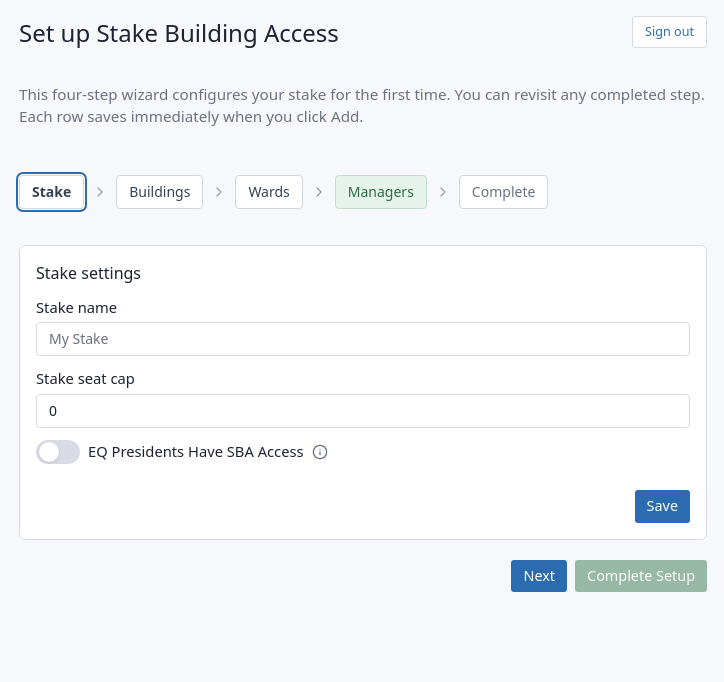
Test: <BootstrapWizardPage /> › tells the manager the " Ward" suffix is optional but a branch must end in " Branch"
Click the tab with test id "wizard-step-tab-3": (269,192) [235,175,303,209]
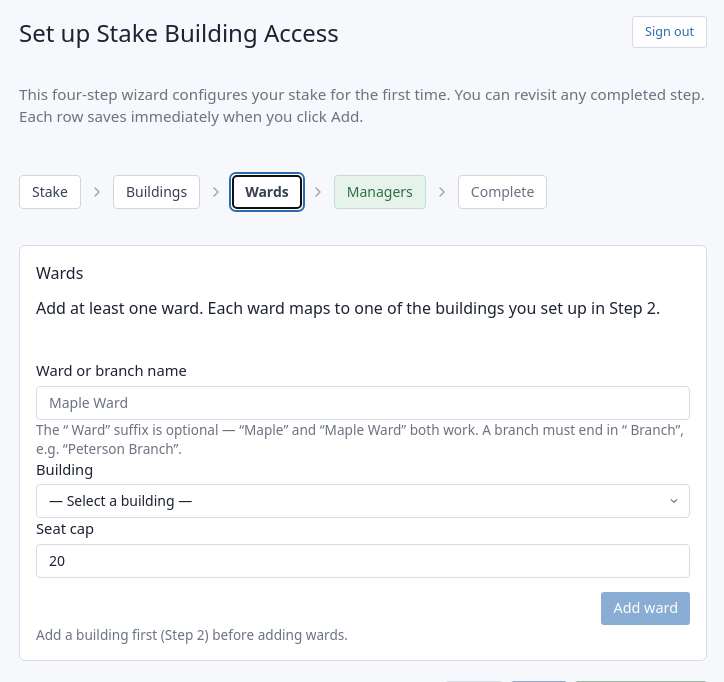
Check: the field labelled "Ward or branch name" is shown, box [36,386,690,420]
